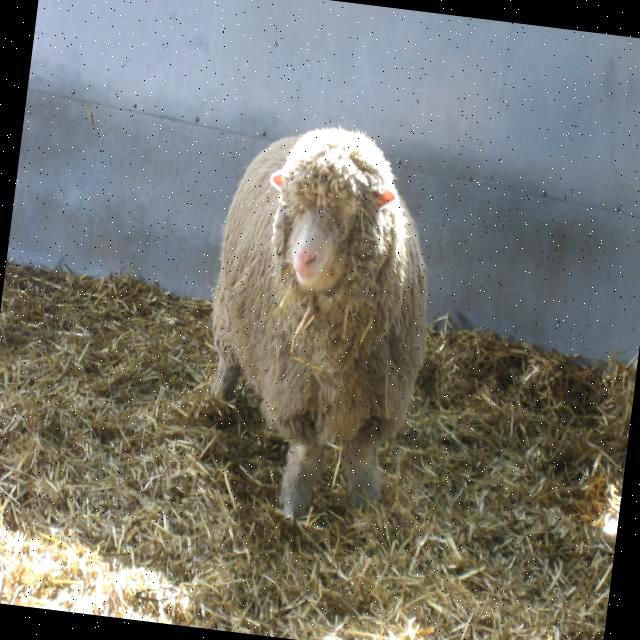sheep: (206, 125, 429, 515)
